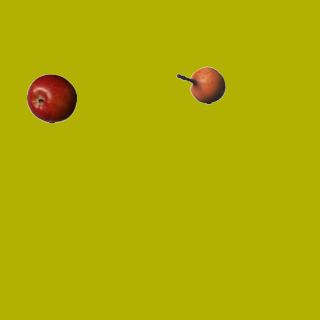Apple Braeburn: (26, 73, 76, 123)
Granadilla: (175, 60, 225, 110)
